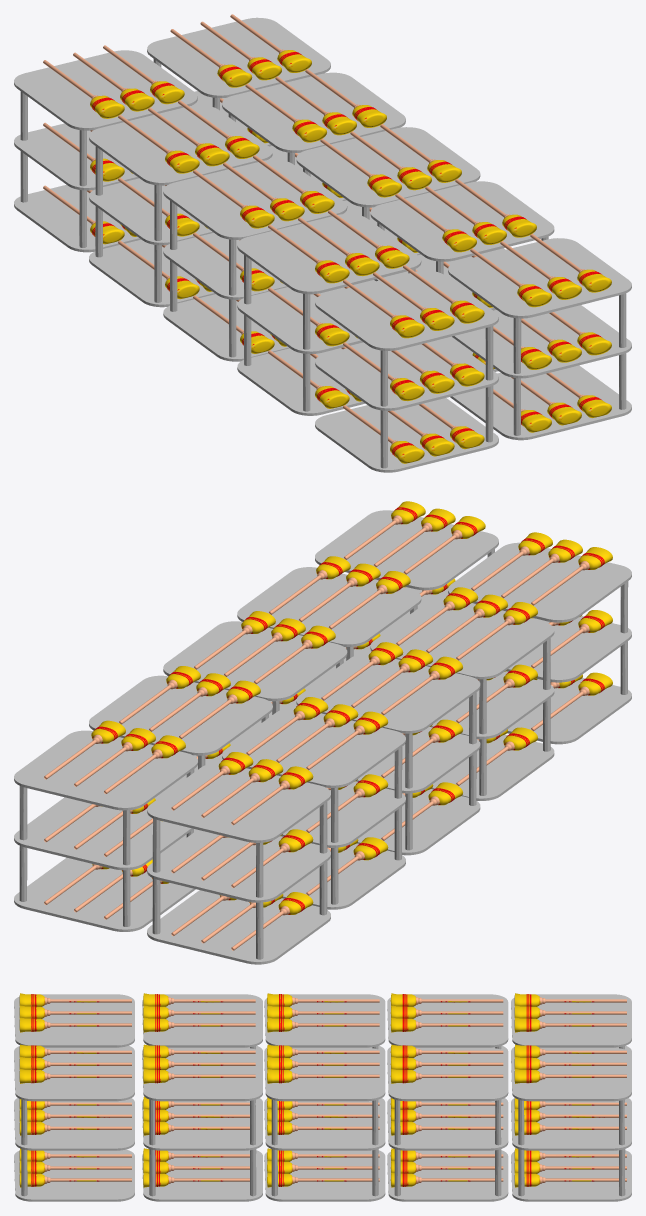
File: EstanteEscoba5x2.obj
3 views of the same model, one above another, from view 1: azimuth 30°, elevation 25°; view 2: azimuth 150°, elevation 25°; view 3: azimuth 270°, elevation 25° (orthographic). The views are drawn at different scales.
Parts seen in each view (by area): view 1: Estantes5x5, Escoba; view 2: Estantes5x5, Escoba; view 3: Estantes5x5, Escoba.
Boxes of the visible parts, x1,y1,x2,y2 form: Estantes5x5: [14, 17, 631, 472]; Escoba: [43, 14, 611, 463]; Estantes5x5: [14, 510, 631, 964]; Escoba: [44, 501, 612, 950]; Estantes5x5: [14, 994, 631, 1201]; Escoba: [19, 993, 626, 1187].
Bounding box in the file's own units: 4.1 × 2.11 × 10.21.
